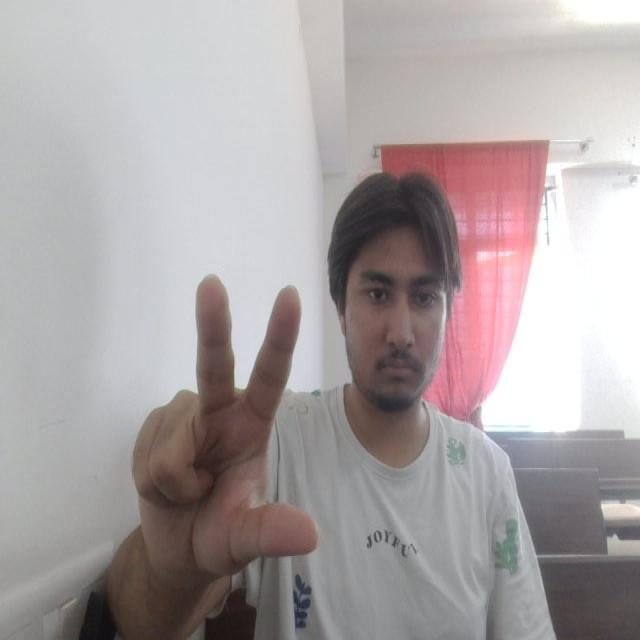no: (129, 274, 323, 584)
